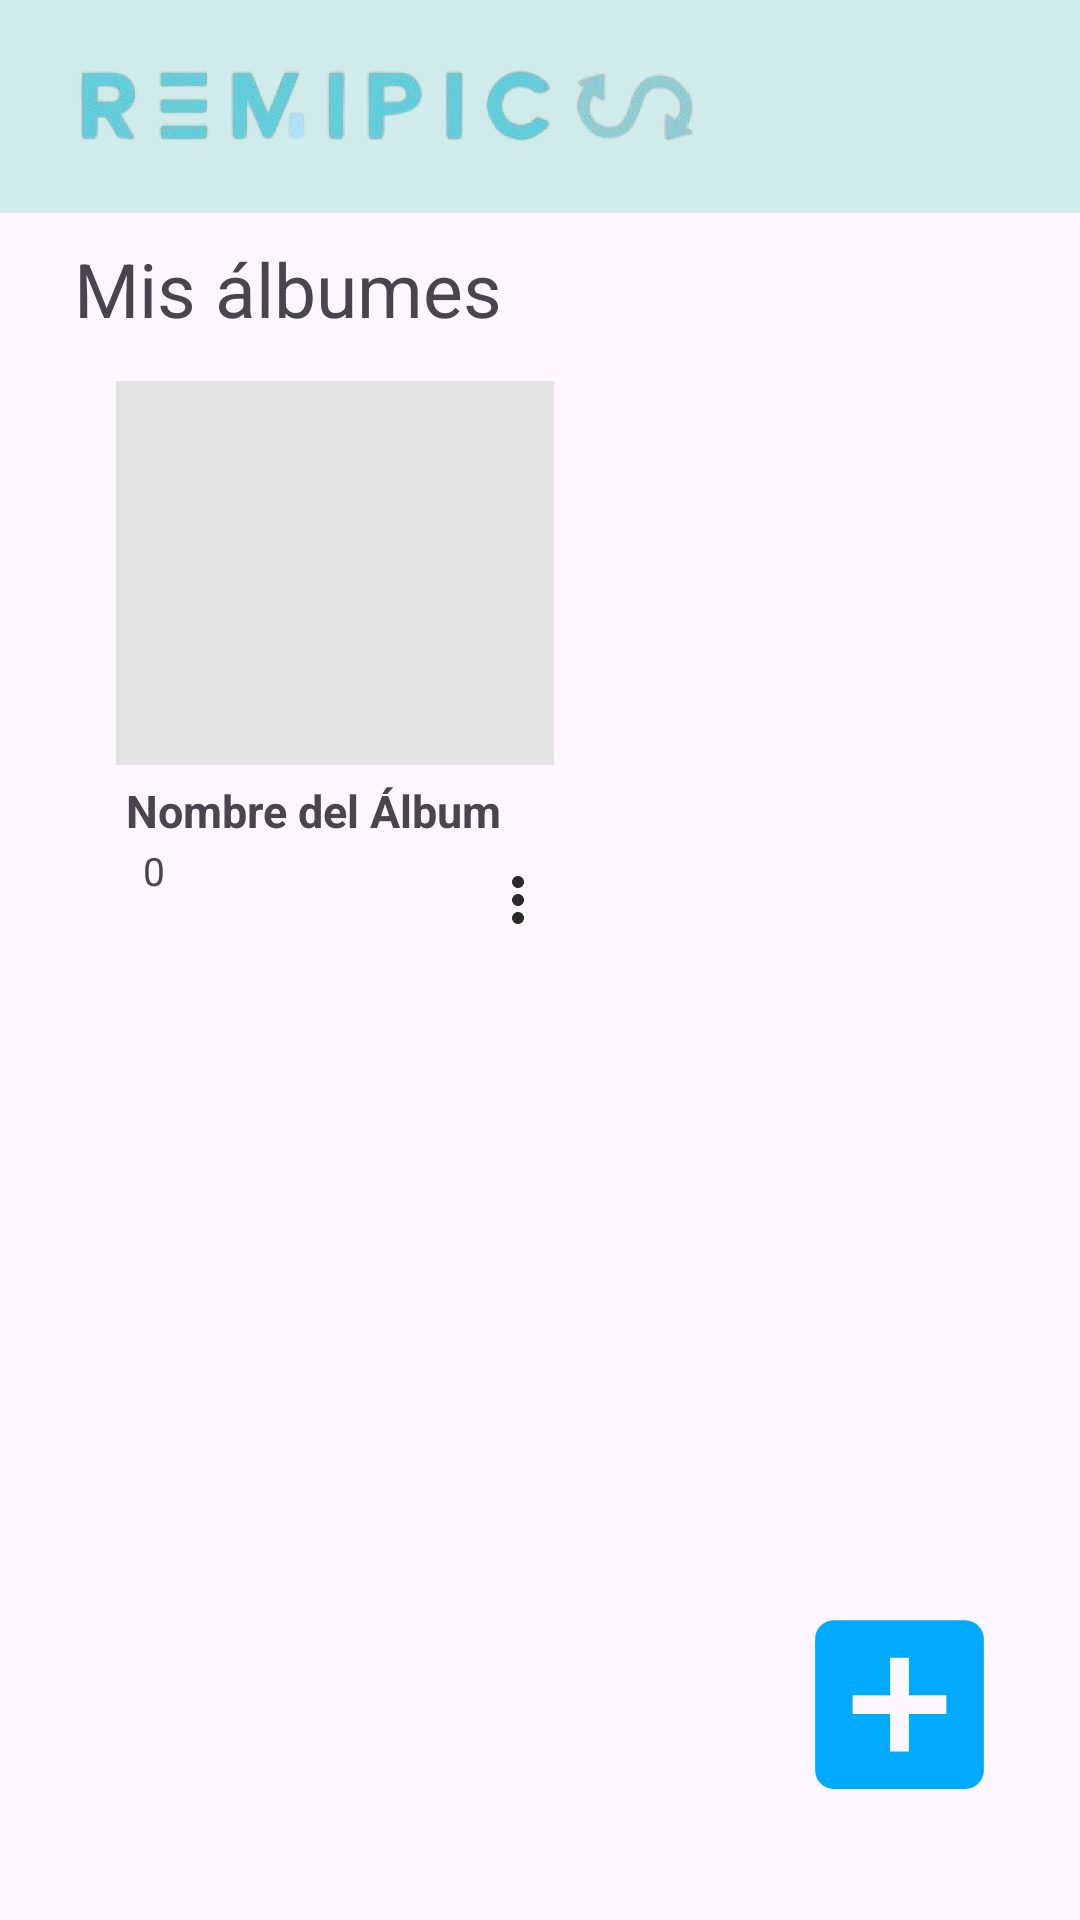

Point at icon controls on the screen. Image size 1080px×1920px, points as [x,y].
crear album: [899,1704]
puntos: [518,900]
